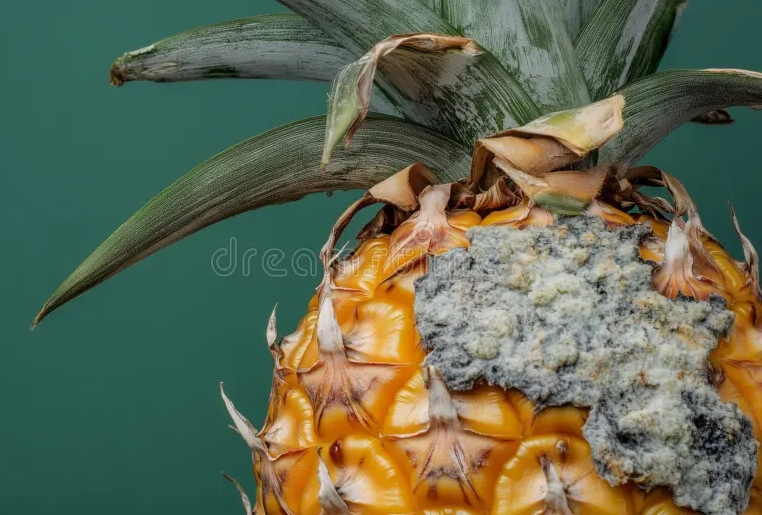rotten pineapple: (254, 63, 762, 515)
